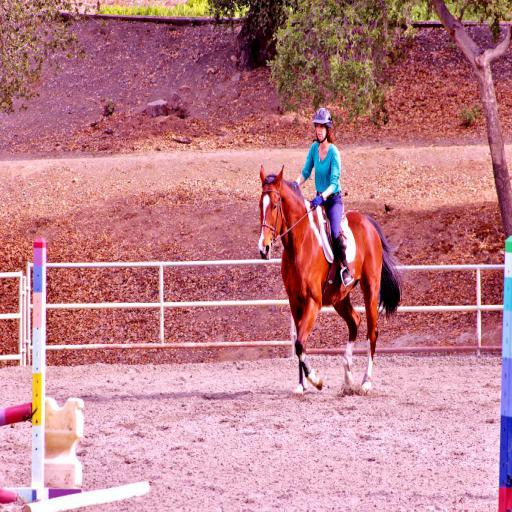Horse: (257, 164, 400, 390)
